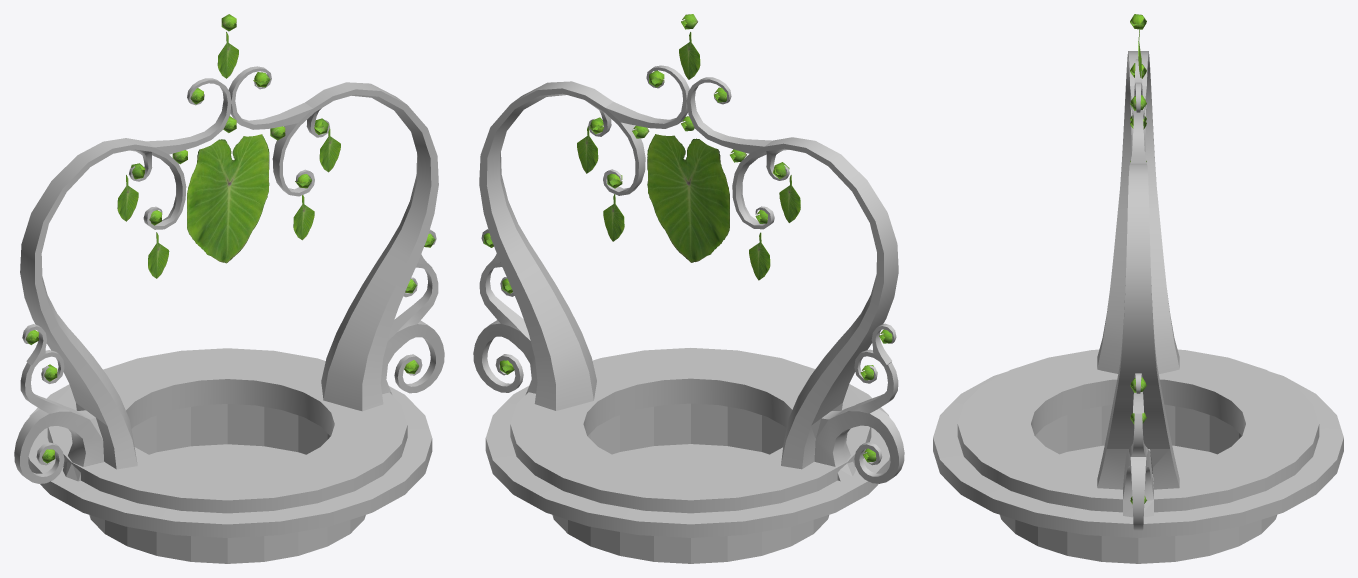
Rendered from Fountain.FBX.
3 views of the same model, side by side, from view 1: azimuth 30°, elevation 25°; view 2: azimuth 150°, elevation 25°; view 3: azimuth 270°, elevation 25° (orthographic).
Parts seen in each view (by area): view 1: Fountain Base, Brace, Brace001, Fountain Cloth, FruFra001, FruFra, Leaf, Leaf003, Leaf004, Leaf001, Leaf002; view 2: Fountain Base, Brace, Brace001, Fountain Cloth, FruFra001, FruFra, Leaf004, Leaf, Leaf001, Leaf003, Leaf002; view 3: Fountain Base, Brace, Brace001, FruFra.
Part boxes in pixels (box(x1,y1,x2,y2)): Fountain Base: box(28, 348, 432, 563); Brace: box(228, 66, 438, 411); Brace001: box(20, 78, 231, 469); Fountain Cloth: box(187, 134, 269, 263); FruFra001: box(14, 324, 116, 483); FruFra: box(380, 229, 444, 394); Leaf: box(293, 195, 314, 240); Leaf003: box(117, 175, 138, 221); Leaf004: box(148, 232, 169, 278); Leaf001: box(217, 32, 238, 78); Leaf002: box(319, 128, 340, 172); Fountain Base: box(485, 348, 890, 563); Brace: box(479, 65, 689, 410); Brace001: box(687, 77, 898, 469); Fountain Cloth: box(647, 134, 729, 262); FruFra001: box(802, 323, 904, 483); FruFra: box(473, 229, 537, 394); Leaf004: box(749, 232, 770, 280); Leaf: box(603, 194, 624, 241); Leaf001: box(679, 32, 700, 79); Leaf003: box(779, 175, 800, 222); Leaf002: box(577, 126, 598, 173); Fountain Base: box(933, 349, 1343, 563); Brace: box(1097, 82, 1179, 486); Brace001: box(1097, 51, 1179, 373); FruFra: box(1097, 373, 1179, 530).
Size of the model in its own units: 353 by 387 by 294.
